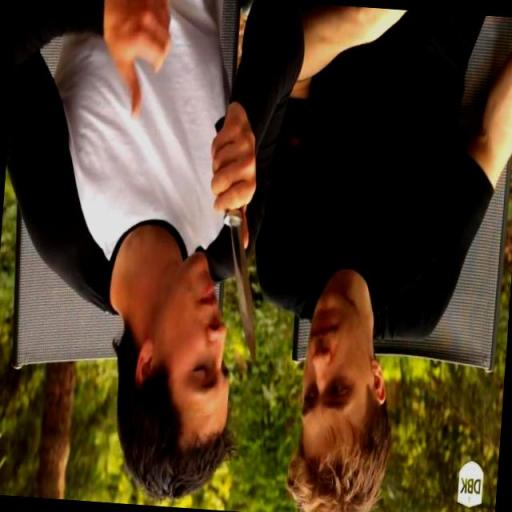knife: (198, 114, 272, 364)
